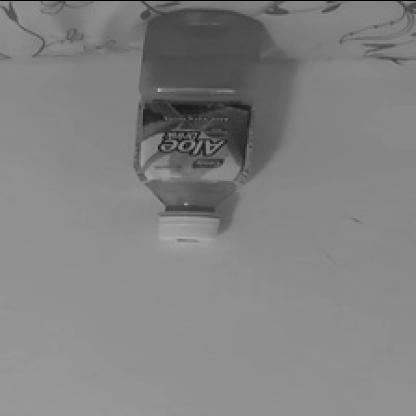plastic_bottles: (130, 3, 262, 245)
